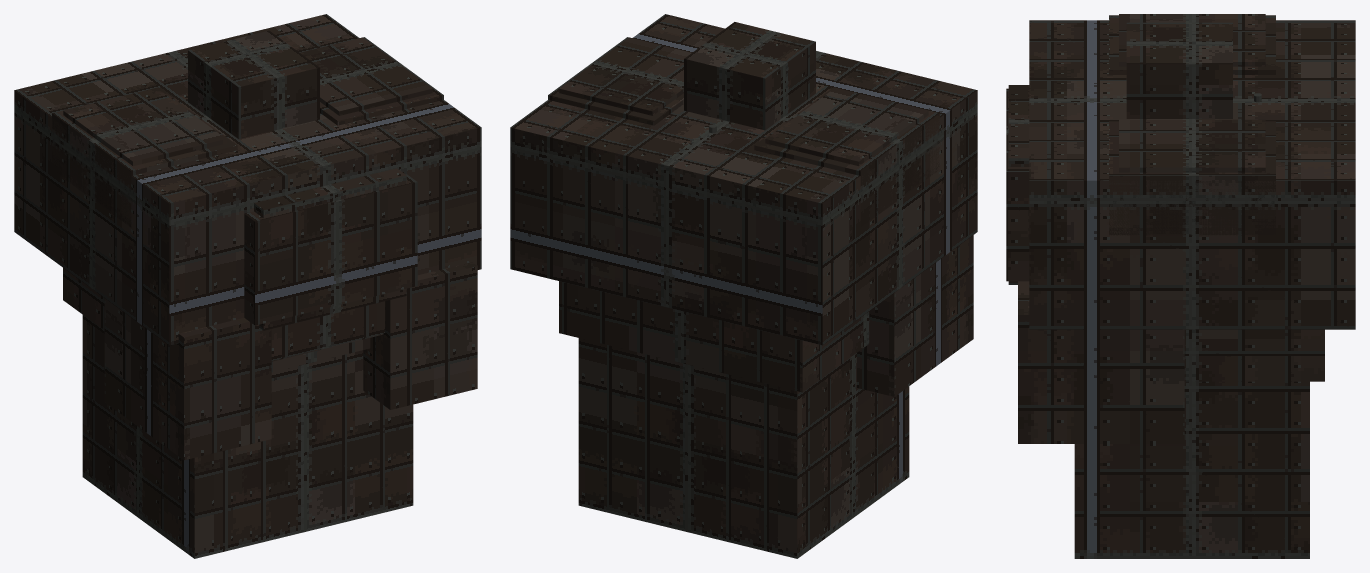
The model's file is enemy_role_brute.glb.
The picture shows the model from 3 angles, left to right: view 1: azimuth 30°, elevation 25°; view 2: azimuth 150°, elevation 25°; view 3: azimuth 270°, elevation 25°; orthographic projection. The views are drawn at different scales.
Visible parts, largest first — view 1: enemy_role_brute; view 2: enemy_role_brute; view 3: enemy_role_brute.
Part boxes in pixels (bbox=[...]): enemy_role_brute: bbox=[14, 14, 481, 558]; enemy_role_brute: bbox=[510, 14, 977, 558]; enemy_role_brute: bbox=[1006, 14, 1355, 558].
Size of the model in its own units: 1.8 by 2.41 by 1.66.
Materials: 3 (3 with a texture image).
